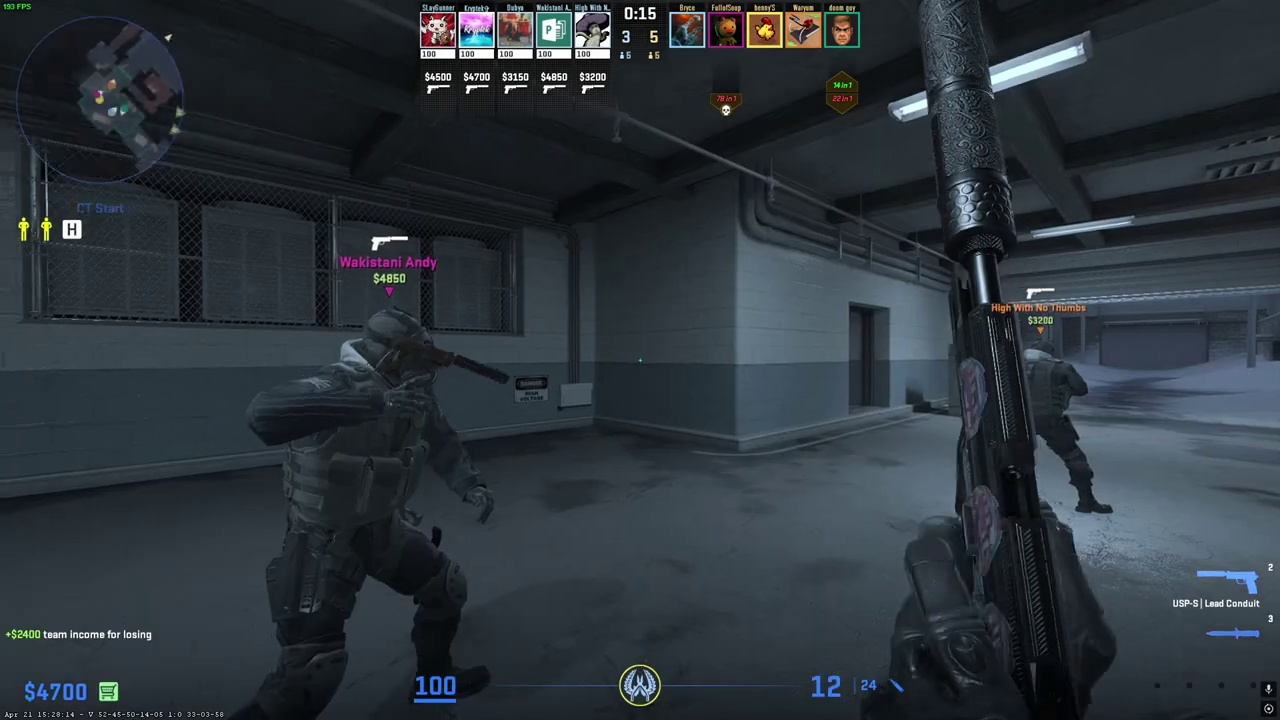CT: (263, 308, 475, 719), (1016, 338, 1103, 513)
